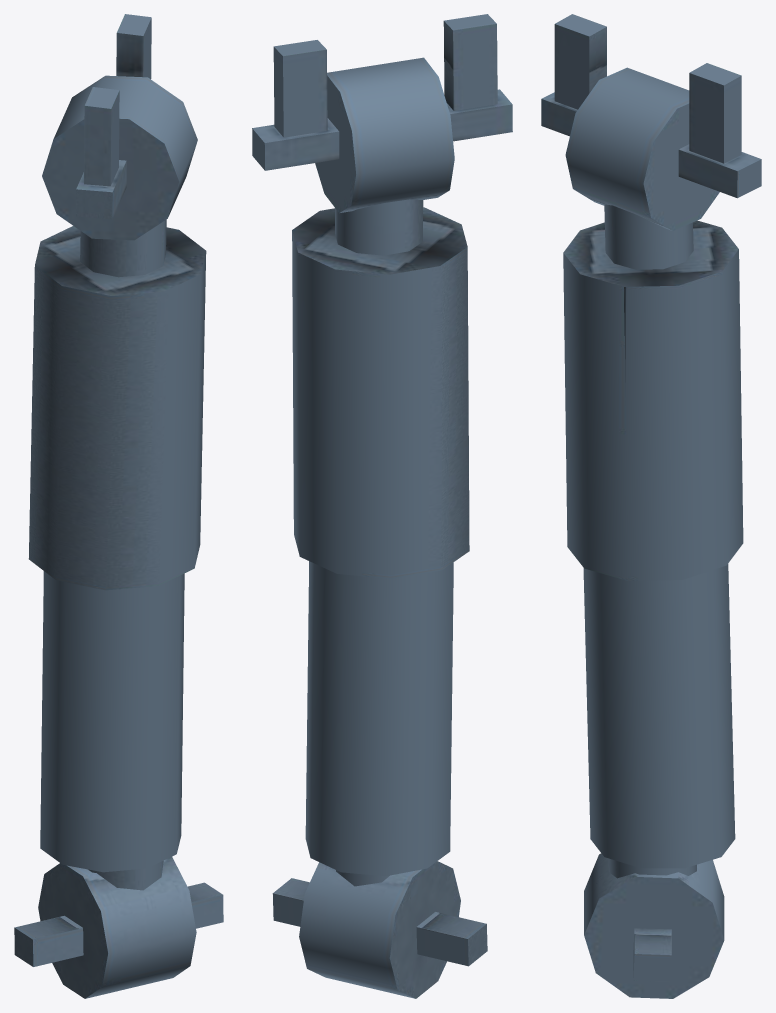
File: jianyaqi002.FBX
3 views of the same model, side by side, from view 1: azimuth 30°, elevation 25°; view 2: azimuth 150°, elevation 25°; view 3: azimuth 270°, elevation 25° (orthographic). The views are drawn at different scales.
Visible parts, largest first — view 1: Object097; view 2: Object097; view 3: Object097.
Part boxes in pixels (bbox=[...]): Object097: bbox=[14, 14, 223, 998]; Object097: bbox=[252, 14, 512, 998]; Object097: bbox=[541, 14, 761, 998].
Size of the model in its own units: 0.0861 by 0.3983 by 0.0858.
